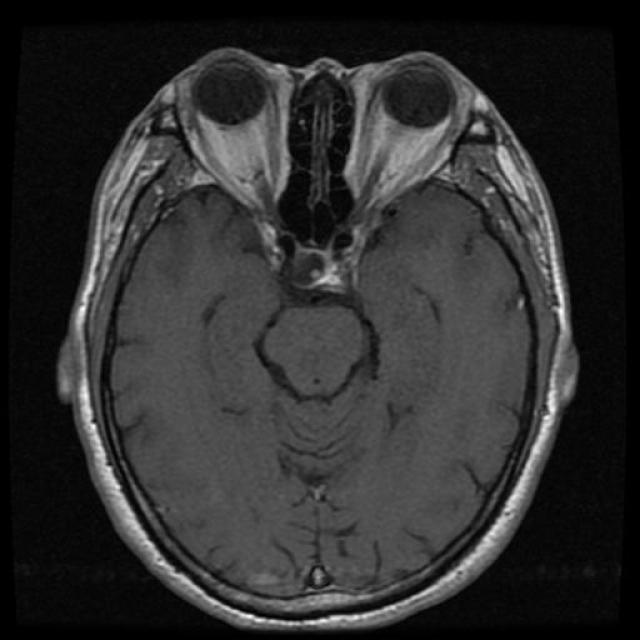pituitary: (275, 248, 356, 316)
